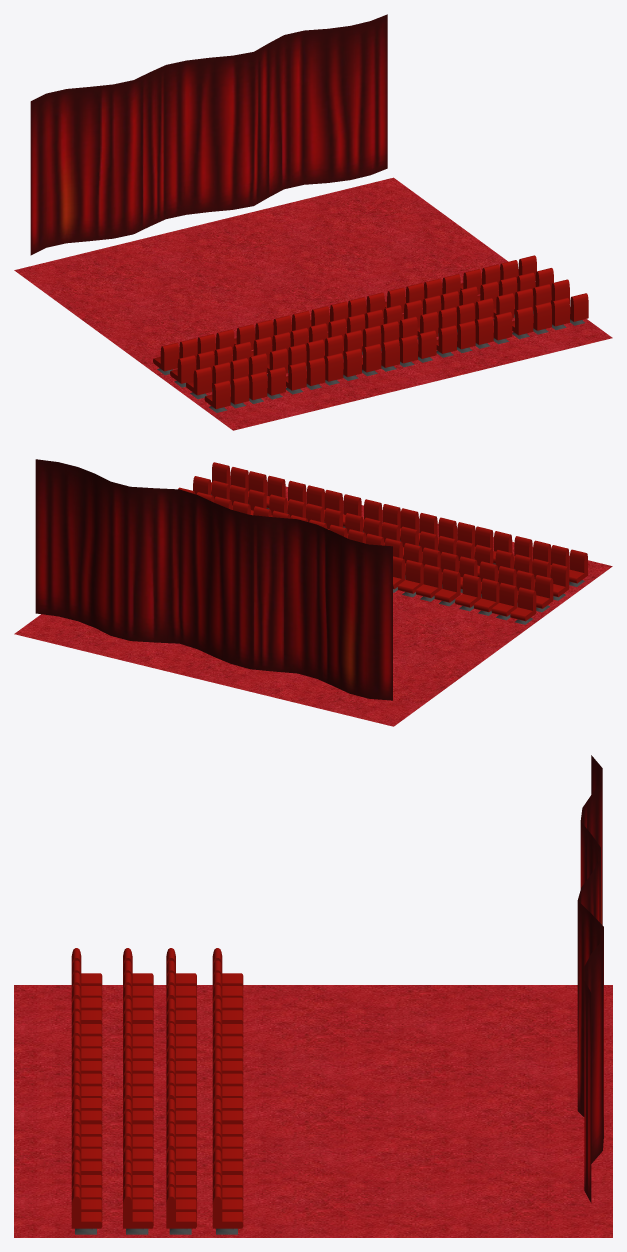
File: quizroom_world.glb
3 views of the same model, one above another, from view 1: azimuth 30°, elevation 25°; view 2: azimuth 150°, elevation 25°; view 3: azimuth 270°, elevation 25° (orthographic). The views are drawn at different scales.
Parts seen in each view (by area): view 1: Plane.001, Plane, Sofa.064, Sofa.055, Sofa.015, Sofa.063, Sofa.072, Sofa.071, Sofa.024; view 2: Plane.001, Plane, Sofa.015, Sofa.008, Sofa.014, Sofa.009, Sofa.013, Sofa.012, Sofa.011, Sofa.064, Sofa.024, Sofa.055 (+15 smaller); view 3: Plane, Plane.001, Sofa.018, Sofa.061, Sofa.021, Sofa.058.
Boxes of the visible parts, left/top/right/bottom form: Plane.001: left=30, top=14, right=387, bottom=255; Plane: left=14, top=177, right=612, bottom=430; Sofa.064: left=204, top=380, right=230, bottom=412; Sofa.055: left=186, top=366, right=211, bottom=399; Sofa.015: left=153, top=342, right=178, bottom=375; Sofa.063: left=512, top=306, right=533, bottom=339; Sofa.072: left=436, top=325, right=456, bottom=357; Sofa.071: left=286, top=362, right=306, bottom=394; Sofa.024: left=170, top=355, right=195, bottom=387; Plane.001: left=35, top=459, right=392, bottom=700; Plane: left=14, top=476, right=612, bottom=726; Sofa.015: left=510, top=587, right=536, bottom=624; Sofa.008: left=434, top=569, right=460, bottom=606; Sofa.014: left=491, top=582, right=517, bottom=620; Sofa.009: left=416, top=564, right=441, bottom=601; Sofa.013: left=455, top=574, right=480, bottom=611; Sofa.012: left=474, top=578, right=499, bottom=615; Sofa.011: left=398, top=560, right=423, bottom=597; Sofa.064: left=569, top=549, right=587, bottom=586; Sofa.024: left=535, top=575, right=553, bottom=612; Sofa.055: left=551, top=563, right=569, bottom=600; Plane: left=14, top=985, right=612, bottom=1237; Plane.001: left=577, top=755, right=603, bottom=1202; Sofa.018: left=212, top=1186, right=243, bottom=1234; Sofa.061: left=71, top=1186, right=102, bottom=1234; Sofa.021: left=166, top=1186, right=196, bottom=1234; Sofa.058: left=123, top=1186, right=153, bottom=1234.
Size of what is drawn, in the model's own units: 65.21 by 28.43 by 65.21.
Materials: 162 (2 with a texture image).
